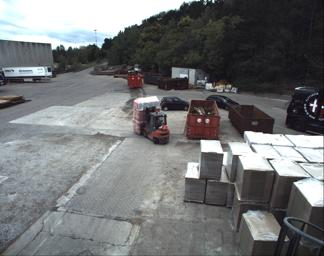rockwool_batts: (131, 95, 158, 131)
